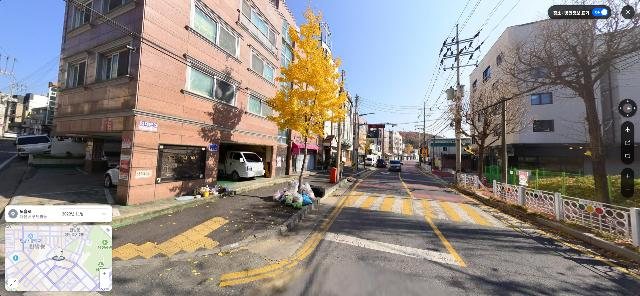ginkgo: (264, 2, 349, 193)
other: (496, 0, 640, 205), (450, 81, 531, 184)
